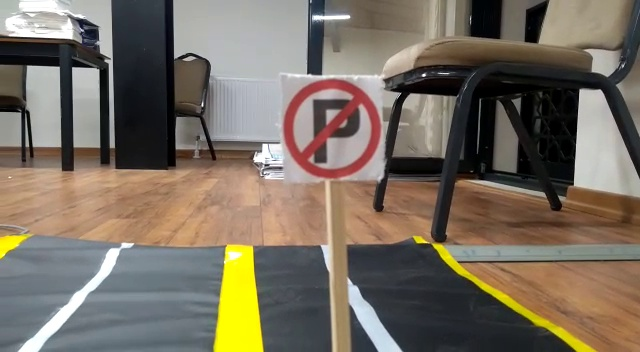park_yapilmaz: (280, 70, 384, 181)
